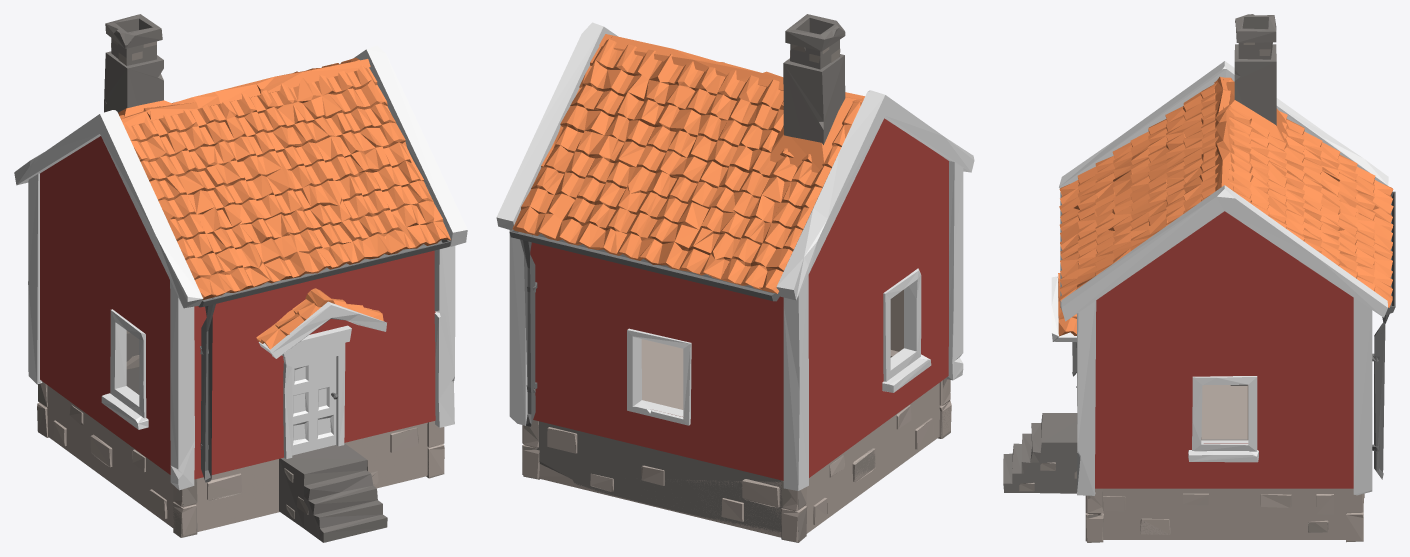
Rendered from SM_House_01_LOD2.fbx.
3 renders of one model, left to right at view 1: azimuth 30°, elevation 25°; view 2: azimuth 150°, elevation 25°; view 3: azimuth 270°, elevation 25°, orthographic. The views are drawn at different scales.
Visible parts, largest first — view 1: House, Foundation, Door_01; view 2: House, Foundation; view 3: House, Foundation.
Boxes of the visible parts, x1,y1,x2,y2 form: House: (14,14,467,542); Foundation: (37,381,444,536); Door_01: (292,356,338,455); House: (496,14,974,542); Foundation: (522,339,951,541); House: (1003,14,1395,542); Foundation: (1085,385,1364,541).
Size of what is drawn, in the model's own units: 817 by 1200 by 1022.
